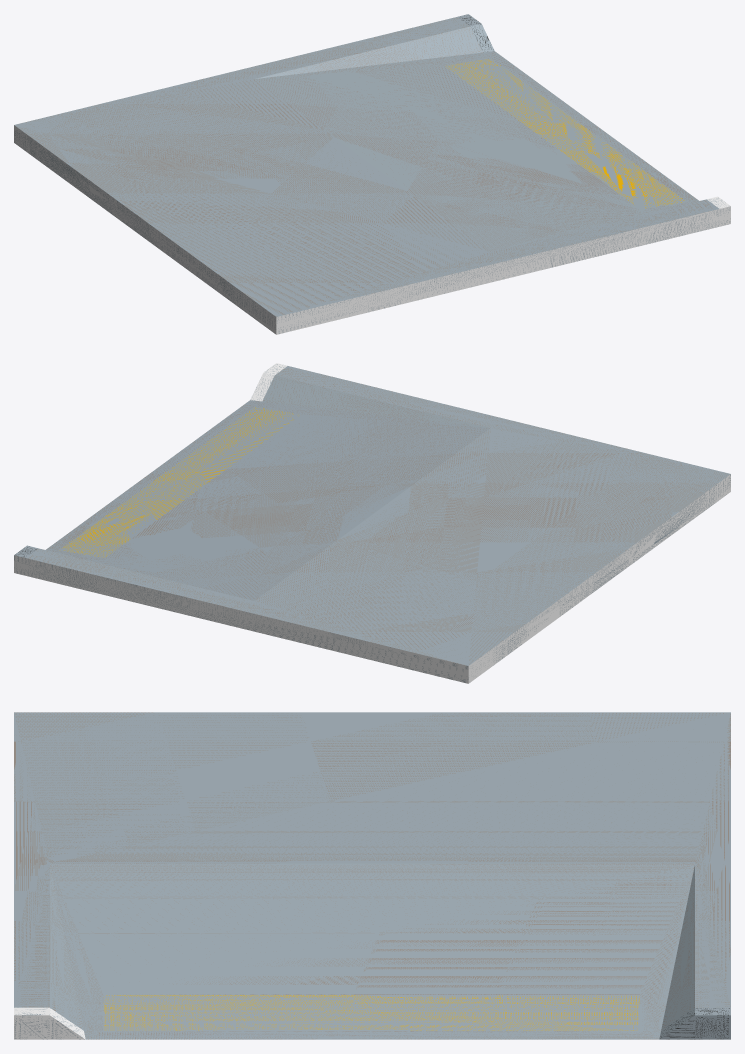
The model's file is curb_crossing.fbx.
3 renders of one model, top to bottom at view 1: azimuth 30°, elevation 25°; view 2: azimuth 150°, elevation 25°; view 3: azimuth 270°, elevation 25°, orthographic. The views are drawn at different scales.
Parts seen in each view (by area): view 1: Group1; view 2: Group1; view 3: Group1.
Boxes of the visible parts, box(x1,y1,x2,y2) form: Group1: box(14, 14, 730, 334); Group1: box(14, 363, 730, 683); Group1: box(14, 712, 730, 1039).
Size of the model in its own units: 4 by 0.15 by 4.
